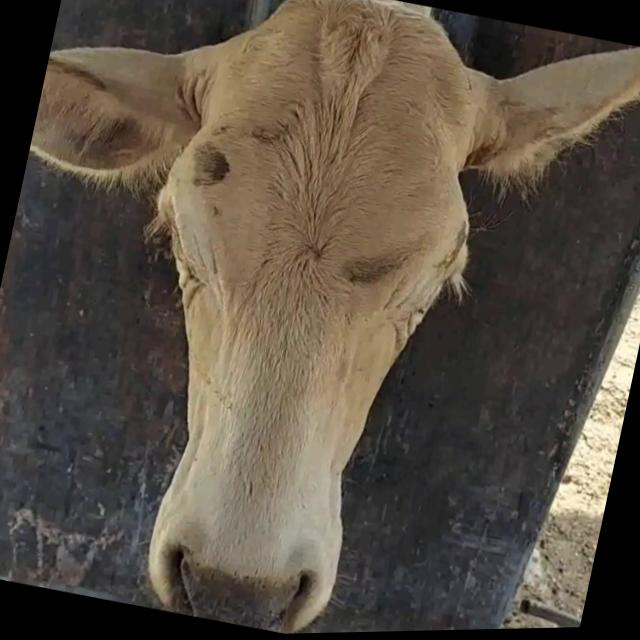cowFace: (80, 0, 519, 639)
